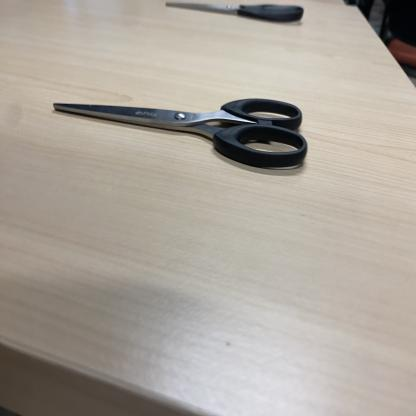scissors: (54, 96, 309, 170), (163, 0, 306, 22)
